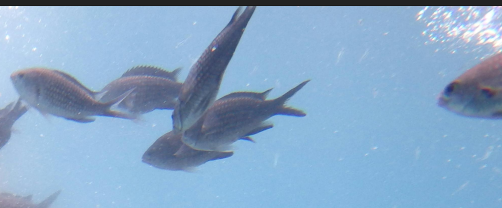fishSmall: (171, 6, 257, 135), (181, 79, 311, 152), (8, 67, 138, 126), (140, 126, 255, 170), (435, 52, 502, 119), (103, 64, 186, 117), (0, 95, 30, 152)
